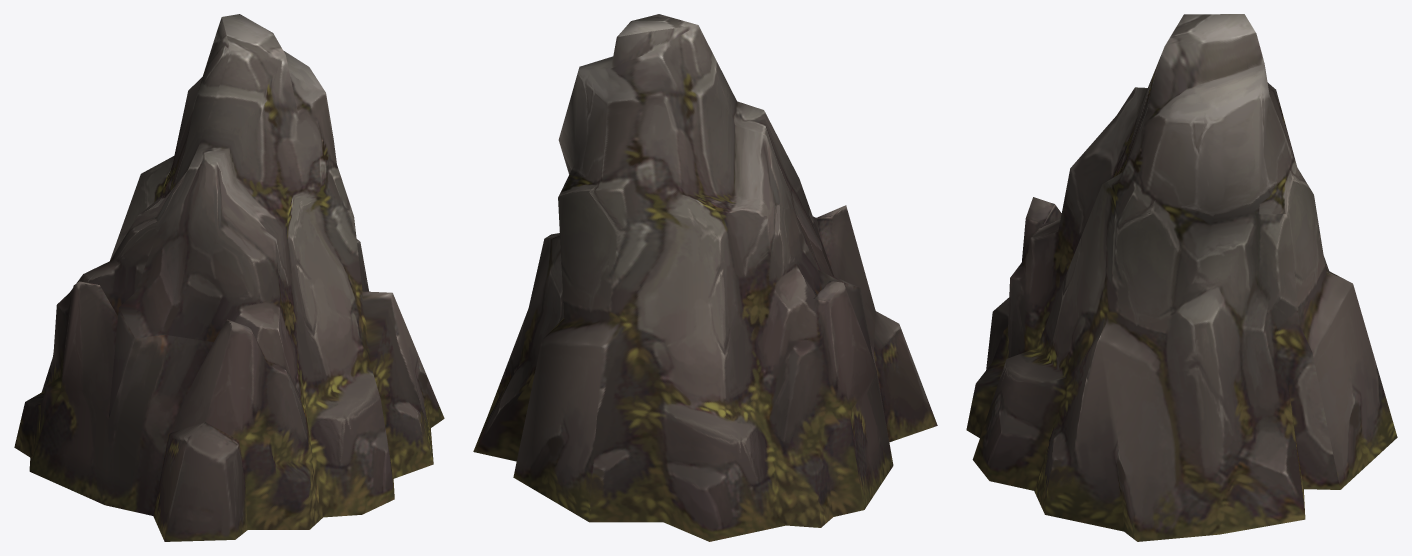
3 views of the same model, side by side, from view 1: azimuth 30°, elevation 25°; view 2: azimuth 150°, elevation 25°; view 3: azimuth 270°, elevation 25° (orthographic). The views are drawn at different scales.
Parts seen in each view (by area): view 1: MB0002_28_04_01; view 2: MB0002_28_04_01; view 3: MB0002_28_04_01.
Boxes of the visible parts, x1,y1,x2,y2 form: MB0002_28_04_01: (14,14,444,541); MB0002_28_04_01: (473,14,937,541); MB0002_28_04_01: (966,14,1397,541).
Bounding box in the file's own units: 6.96 × 7.34 × 6.54.
